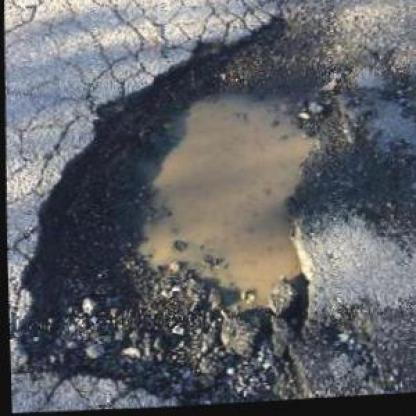pothole: (0, 7, 356, 414)
